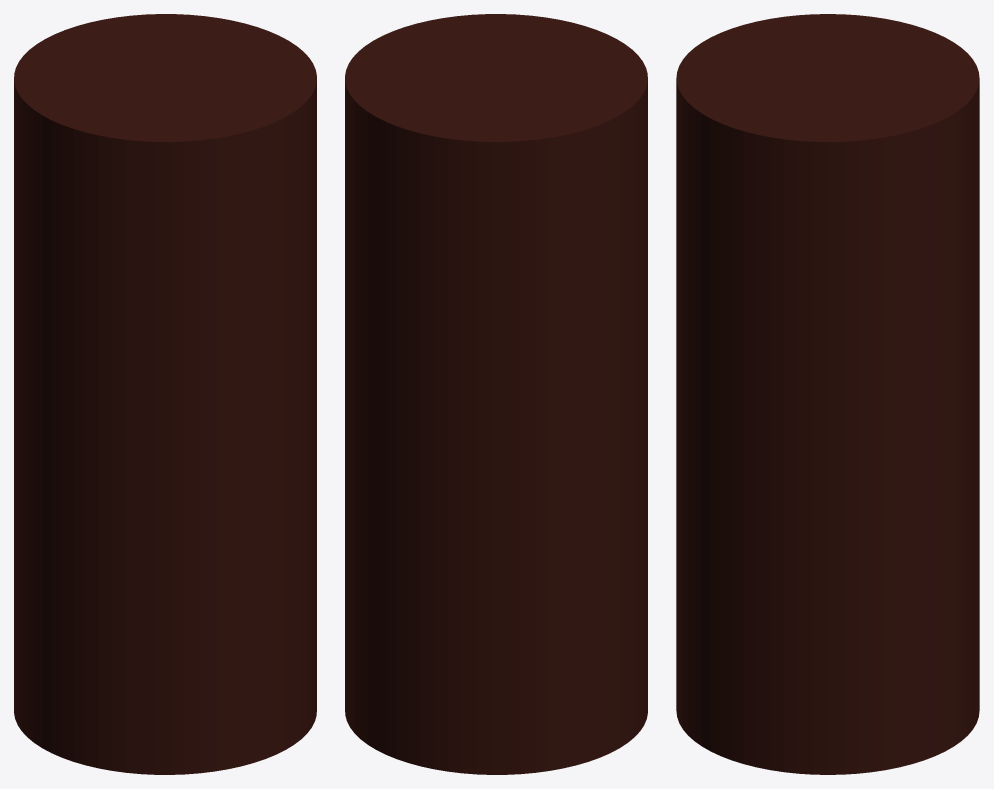
File: BOLT.fbx
3 views of the same model, side by side, from view 1: azimuth 30°, elevation 25°; view 2: azimuth 150°, elevation 25°; view 3: azimuth 270°, elevation 25° (orthographic).
Visible parts, largest first — view 1: BOLT; view 2: BOLT; view 3: BOLT.
Boxes of the visible parts, bbox=[...] form: BOLT: bbox=[14, 14, 316, 774]; BOLT: bbox=[345, 14, 647, 774]; BOLT: bbox=[676, 14, 979, 774].
Bounding box in the file's own units: 217 × 500 × 217.
